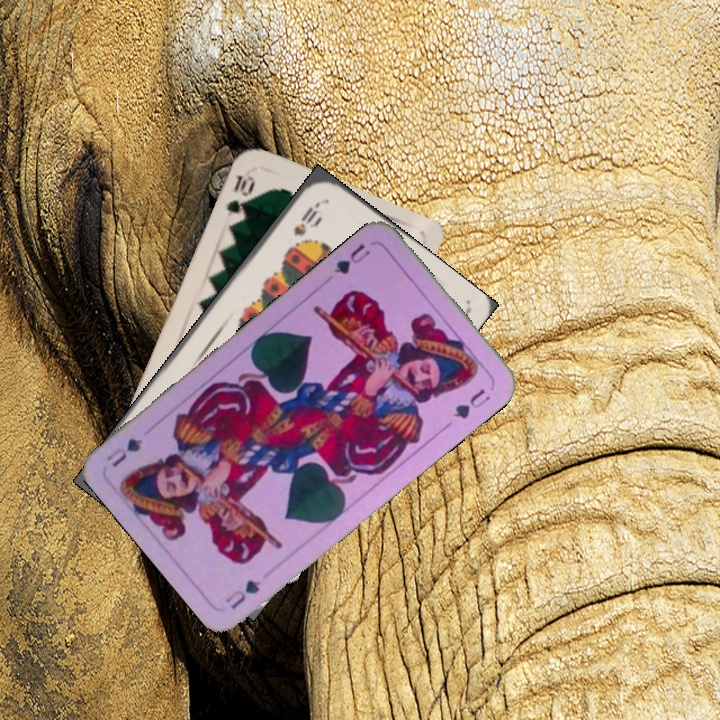G10: (222, 170, 258, 217)
GU: (329, 239, 373, 280), (221, 576, 264, 613)
S10: (289, 197, 324, 239)
